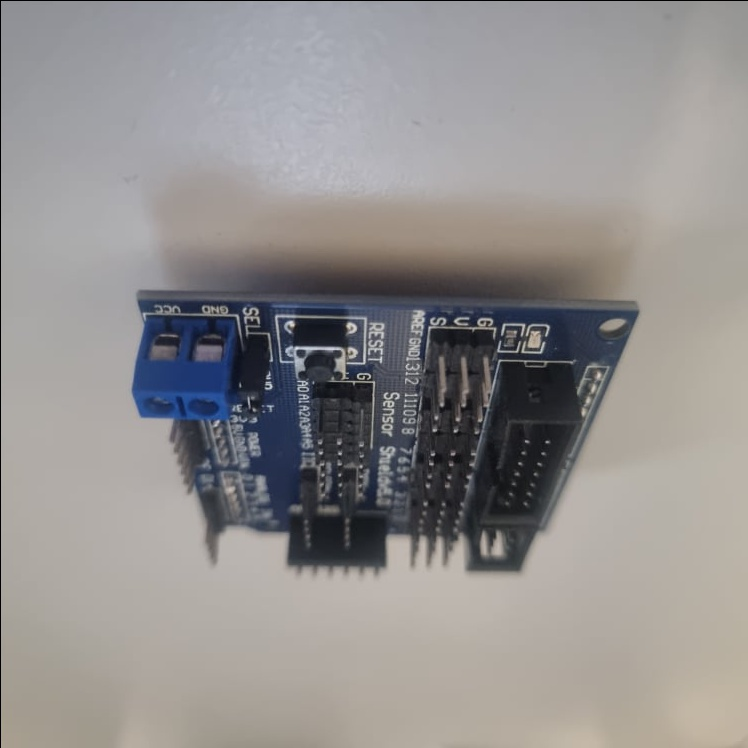5V EXPANSION: (125, 291, 640, 592)
